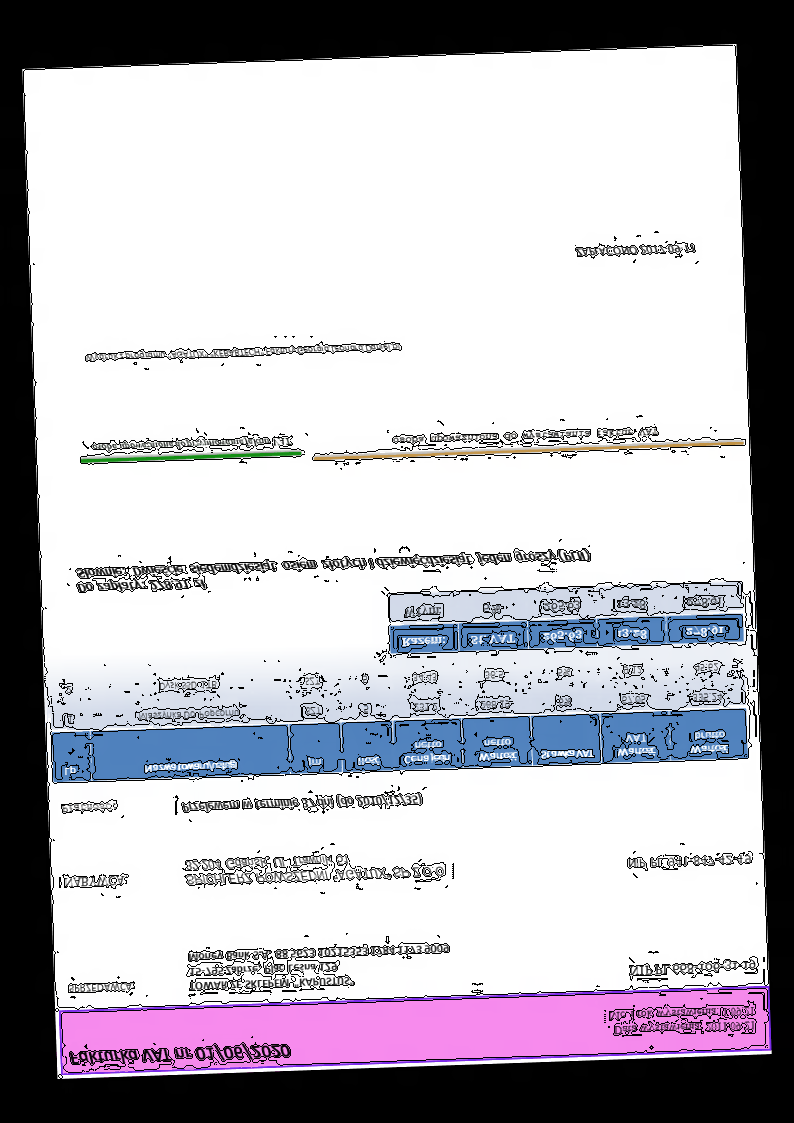Table: (48, 643, 750, 785), (387, 580, 746, 656)
TextBox: (74, 545, 593, 597), (185, 941, 450, 993), (182, 848, 450, 889), (84, 339, 402, 365), (67, 1039, 292, 1068), (391, 425, 660, 448), (179, 790, 423, 815), (604, 1002, 757, 1040), (90, 433, 293, 455), (625, 956, 757, 979), (626, 851, 753, 870), (573, 242, 697, 260), (61, 873, 130, 891), (66, 979, 136, 996), (60, 800, 118, 817)
